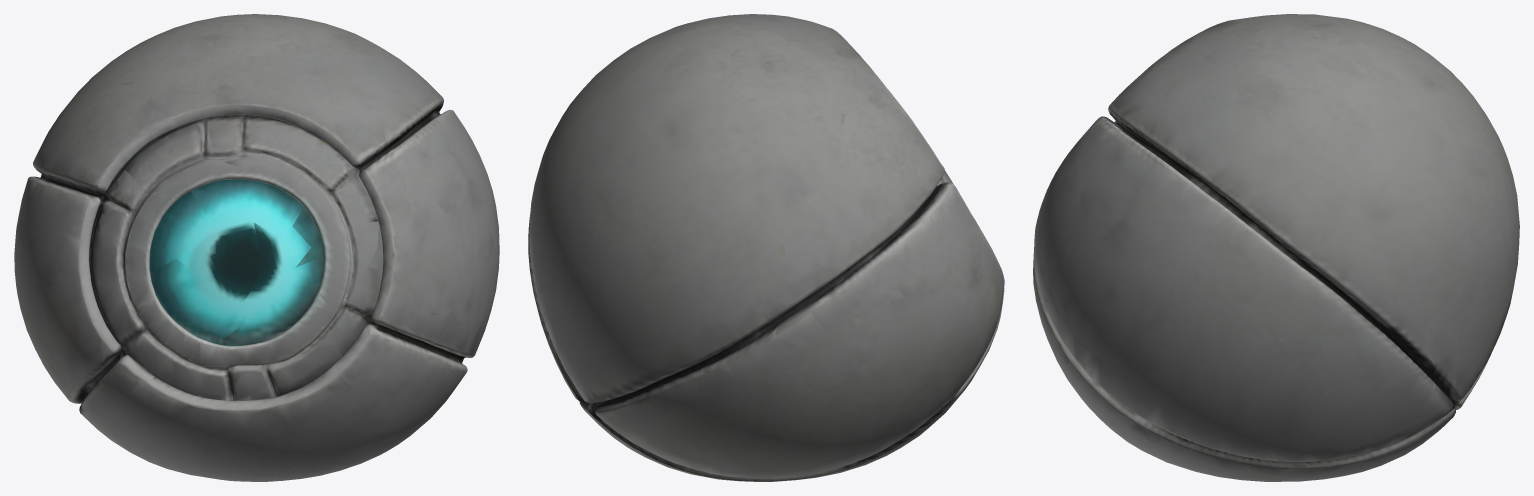
The model's file is Artifact_TC2.fbx.
3 views of the same model, side by side, from view 1: azimuth 30°, elevation 25°; view 2: azimuth 150°, elevation 25°; view 3: azimuth 270°, elevation 25° (orthographic). The views are drawn at different scales.
Visible parts, largest first — view 1: Body_TC2; view 2: Body_TC2; view 3: Body_TC2.
Part boxes in pixels (x1=…): Body_TC2: x1=14, y1=14, x2=499, y2=481; Body_TC2: x1=528, y1=14, x2=1004, y2=481; Body_TC2: x1=1033, y1=14, x2=1519, y2=481.
Bounding box in the file's own units: 0.22 × 0.1943 × 0.2152.
